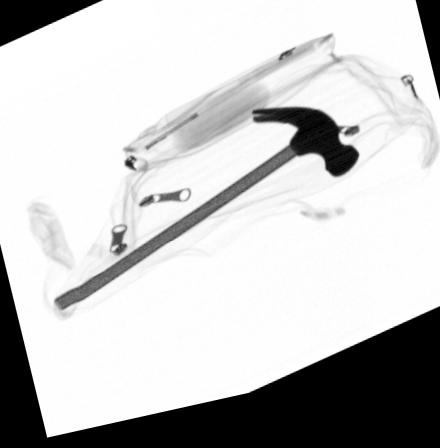Hammer: (52, 118, 359, 314)
